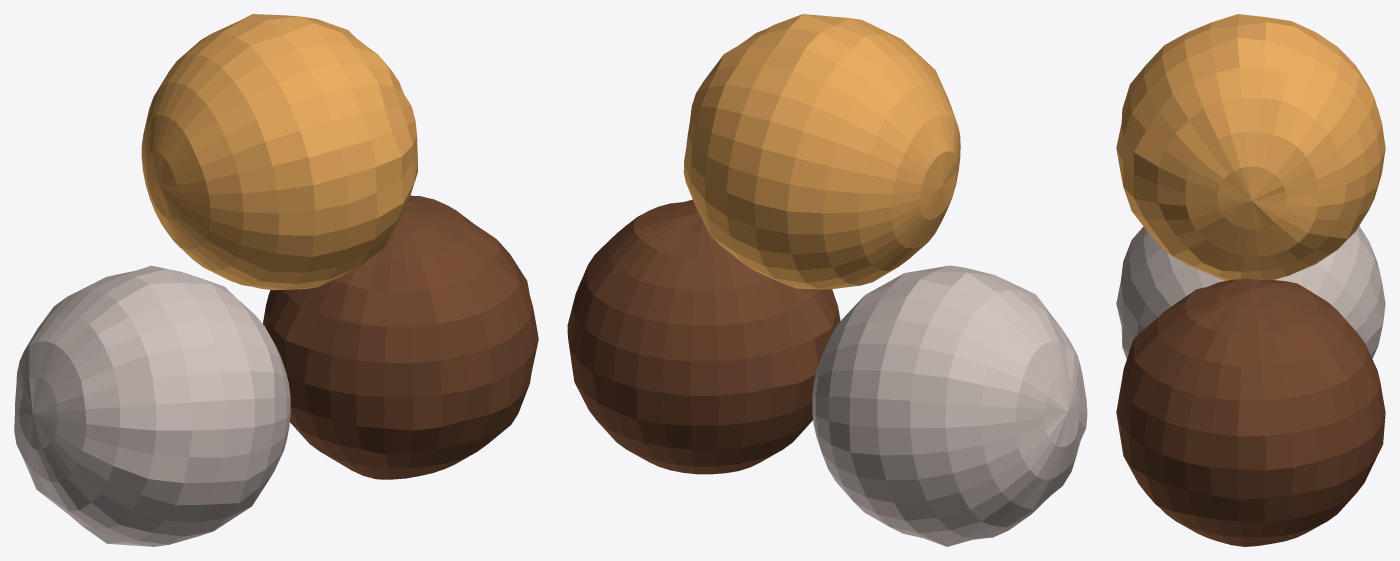
The model's file is timbits.fbx.
The picture shows the model from 3 angles, left to right: view 1: azimuth 30°, elevation 25°; view 2: azimuth 150°, elevation 25°; view 3: azimuth 270°, elevation 25°; orthographic projection. The views are drawn at different scales.
Parts seen in each view (by area): view 1: PlainTimbit.001; view 2: PlainTimbit.001; view 3: PlainTimbit.001.
Boxes of the visible parts, x1,y1,x2,y2 form: PlainTimbit.001: [14, 14, 538, 546]; PlainTimbit.001: [567, 14, 1087, 546]; PlainTimbit.001: [1116, 14, 1385, 546].
Size of the model in its own units: 52.37 by 48.78 by 25.81.
